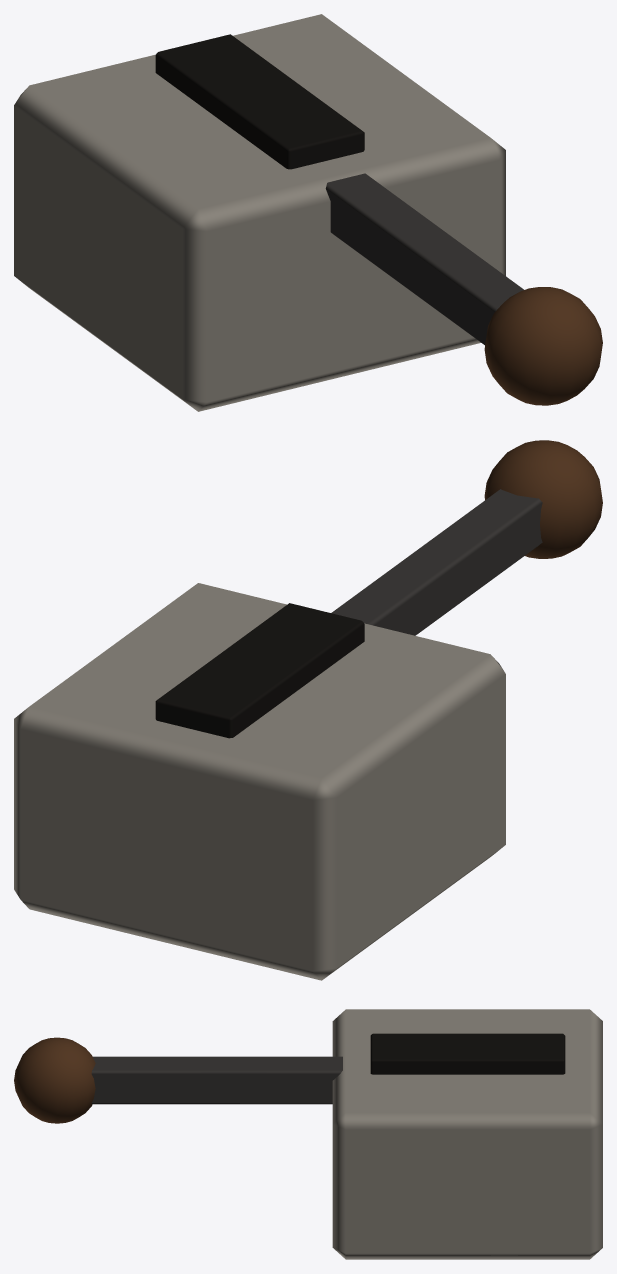
Rendered from lever-down.045f52a1.glb.
3 views of the same model, one above another, from view 1: azimuth 30°, elevation 25°; view 2: azimuth 150°, elevation 25°; view 3: azimuth 270°, elevation 25° (orthographic). The views are drawn at different scales.
Visible parts, largest first — view 1: body, swing; view 2: body, swing; view 3: body, swing.
Boxes of the visible parts, x1=… form: body: x1=14, y1=14, x2=505, y2=411; swing: x1=325, y1=173, x2=602, y2=405; body: x1=14, y1=583, x2=505, y2=980; swing: x1=331, y1=440, x2=602, y2=635; body: x1=332, y1=1009, x2=602, y2=1259; swing: x1=14, y1=1037, x2=342, y2=1123.
Size of the model in its own units: 0.5 by 0.34 by 1.09.
